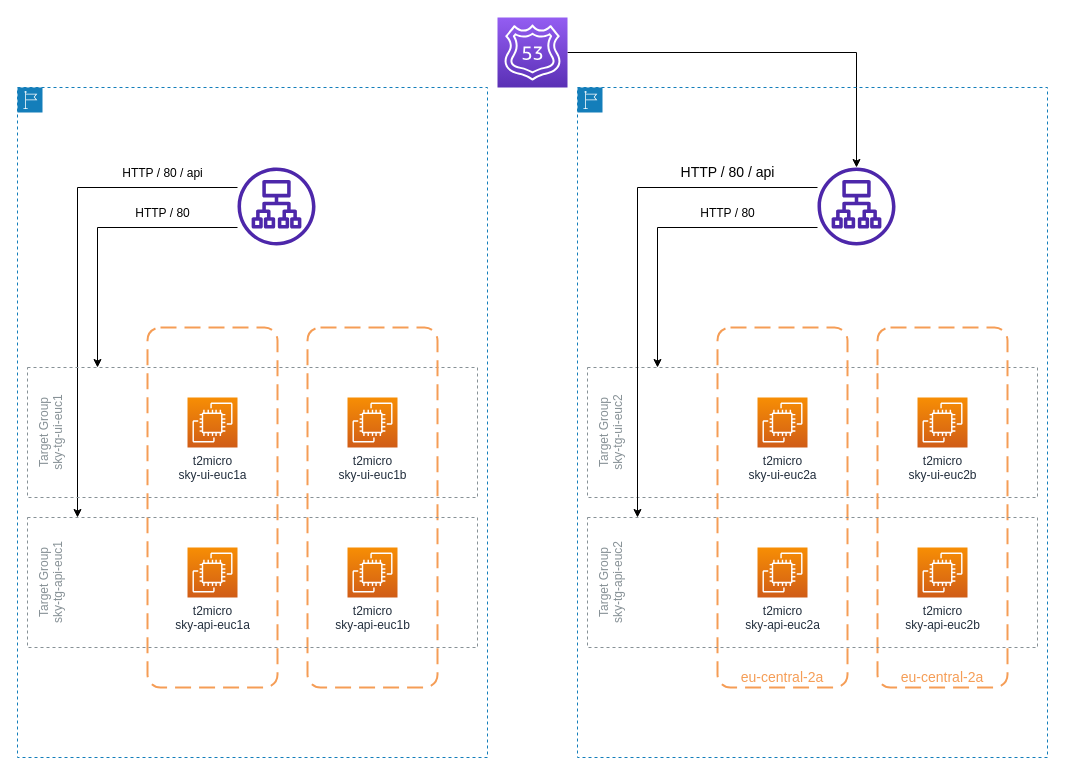
This 1065x775 diagram has some shape labels left out. Here are the shapes that lost their labels. From the top down, the box of each, then its label:
(237, 167, 315, 245): sky-alb-euc1
(817, 167, 895, 245): sky-alb-euc2
(16, 86, 488, 758): Region eu-central-1 ( Frankfurt )
(576, 86, 1048, 758): Region eu-central-2 (Zurich)
(146, 326, 278, 688): eu-central-1a
(306, 326, 438, 688): eu-central-1b
